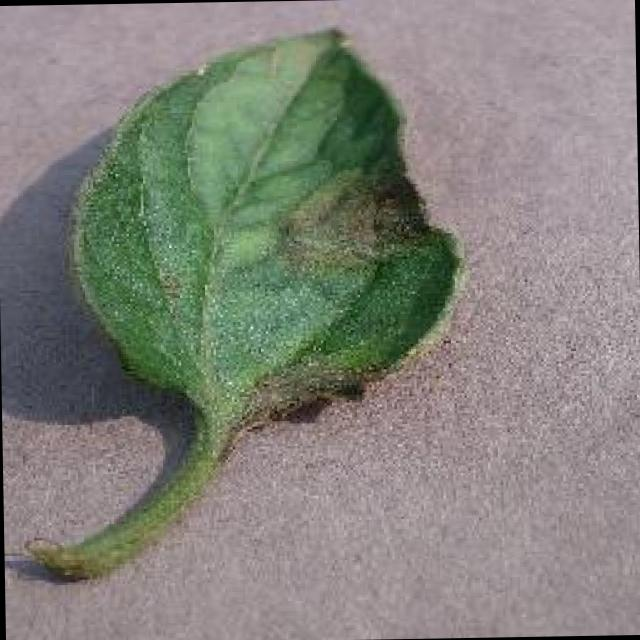Tomato_Late_Blight: (276, 150, 470, 276), (231, 345, 401, 430)
